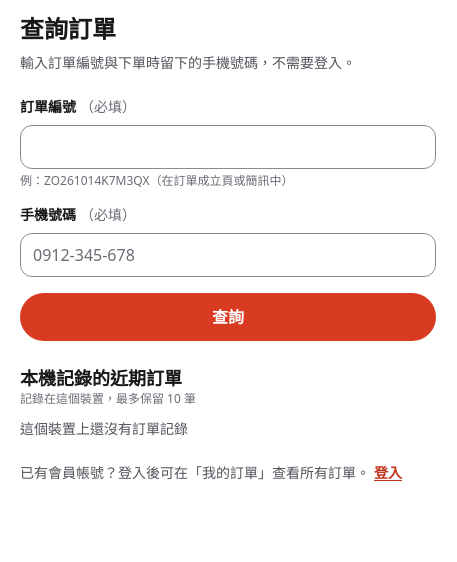
Scenario: OrderLookupPage › 查無資料：一律顯示同一句，不揭露是哪個欄位錯誤
This screenshot has width=457, height=562.
Type "ZO000000AAAAAA" into the field labelled "訂單編號（必填）" at (228, 147), box [20, 125, 436, 169]
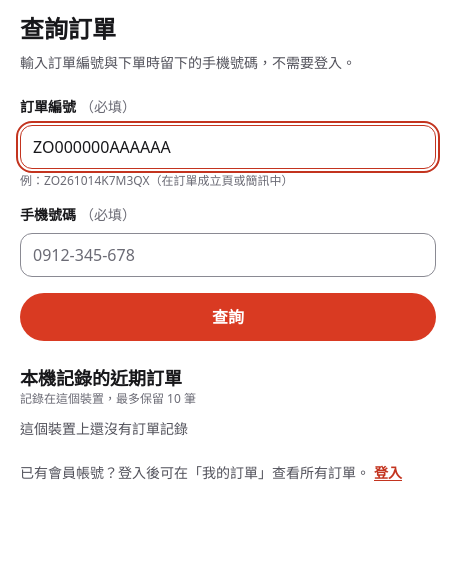
Type "0912345678" into the field labelled "手機號碼（必填）" at (228, 255), box [20, 233, 436, 277]
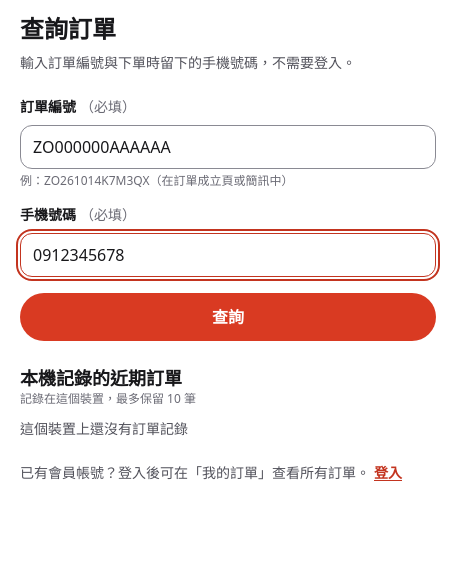
Click the button "查詢" at (228, 317), box [20, 293, 436, 341]
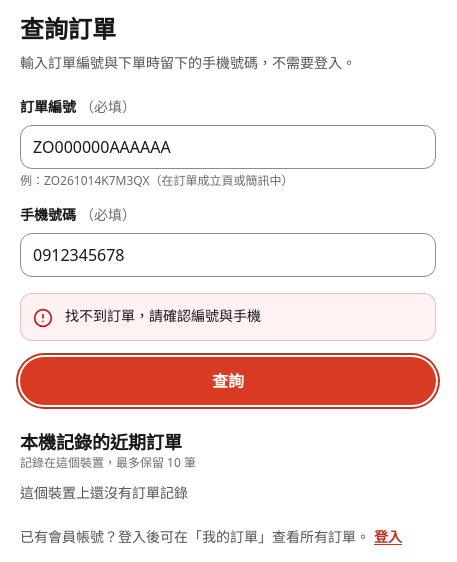
Check: the text "找不到訂單，請確認編號與手機" is shown, box [65, 306, 261, 325]
